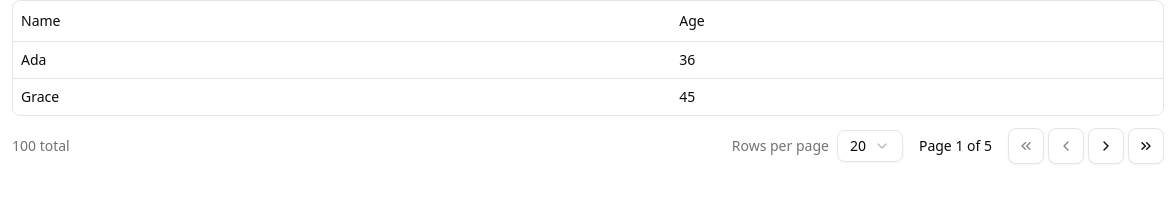
Test case: DataTable › sorts the page size options and does not duplicate the current size
Click the dropdown named "Rows per page" at (870, 146), box [837,130,903,162]
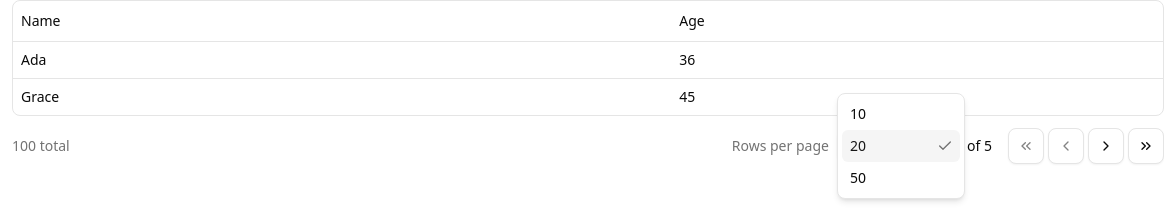
expect the options read "10", "20", "50", in this order: met, box [850,104,866,122]; [842,130,960,162]; [850,168,866,186]
